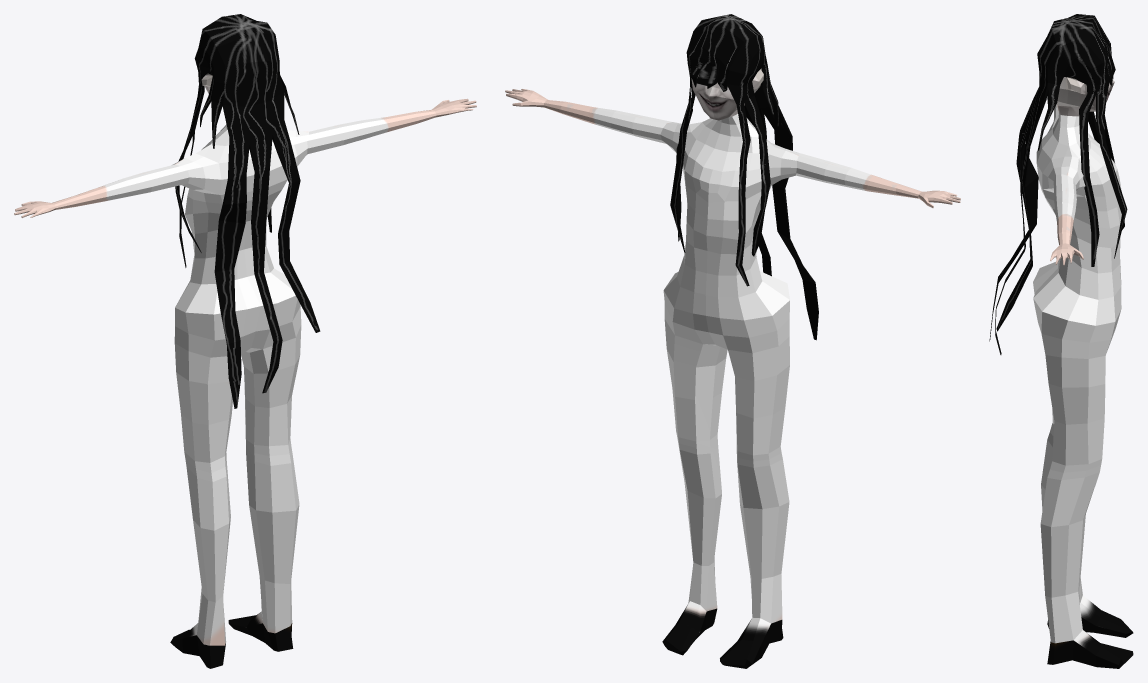
Rendered from macuNODRESS.fbx.
The picture shows the model from 3 angles, left to right: view 1: azimuth 30°, elevation 25°; view 2: azimuth 150°, elevation 25°; view 3: azimuth 270°, elevation 25°; orthographic projection.
Visible parts, largest first — view 1: mawhite.001, hair.002; view 2: mawhite.001, hair.002; view 3: mawhite.001, hair.002.
Boxes of the visible parts, <box> form: mawhite.001: <box>14,73,476,668</box>; hair.002: <box>175,14,320,408</box>; mawhite.001: <box>505,68,960,668</box>; hair.002: <box>670,14,818,340</box>; mawhite.001: <box>1033,77,1133,668</box>; hair.002: <box>989,14,1127,354</box>.
Bounding box in the file's own units: 188 × 246 × 50.97.
2 materials, 2 textured.
